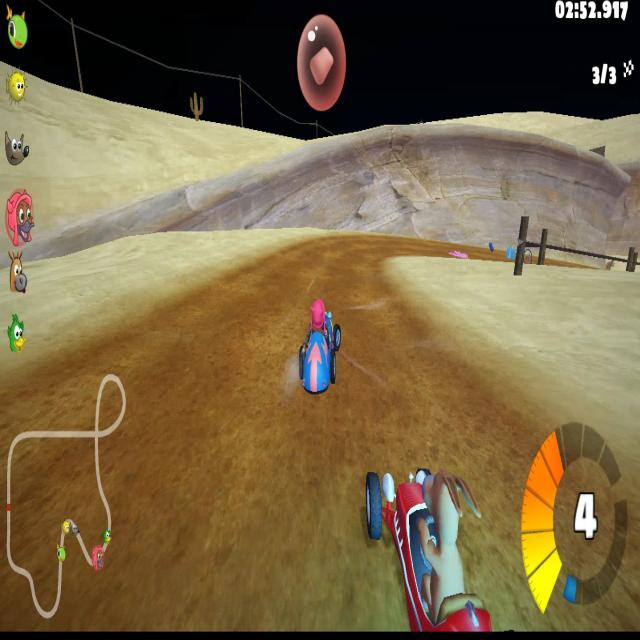player_kart: (293, 300, 342, 396)
track: (3, 389, 363, 640), (491, 467, 639, 640), (189, 291, 293, 386), (365, 391, 493, 462), (344, 304, 423, 391), (101, 318, 193, 388), (334, 256, 406, 301), (251, 260, 334, 295), (326, 231, 409, 257), (408, 238, 446, 259), (225, 263, 250, 292), (550, 259, 594, 271), (296, 240, 327, 256)
